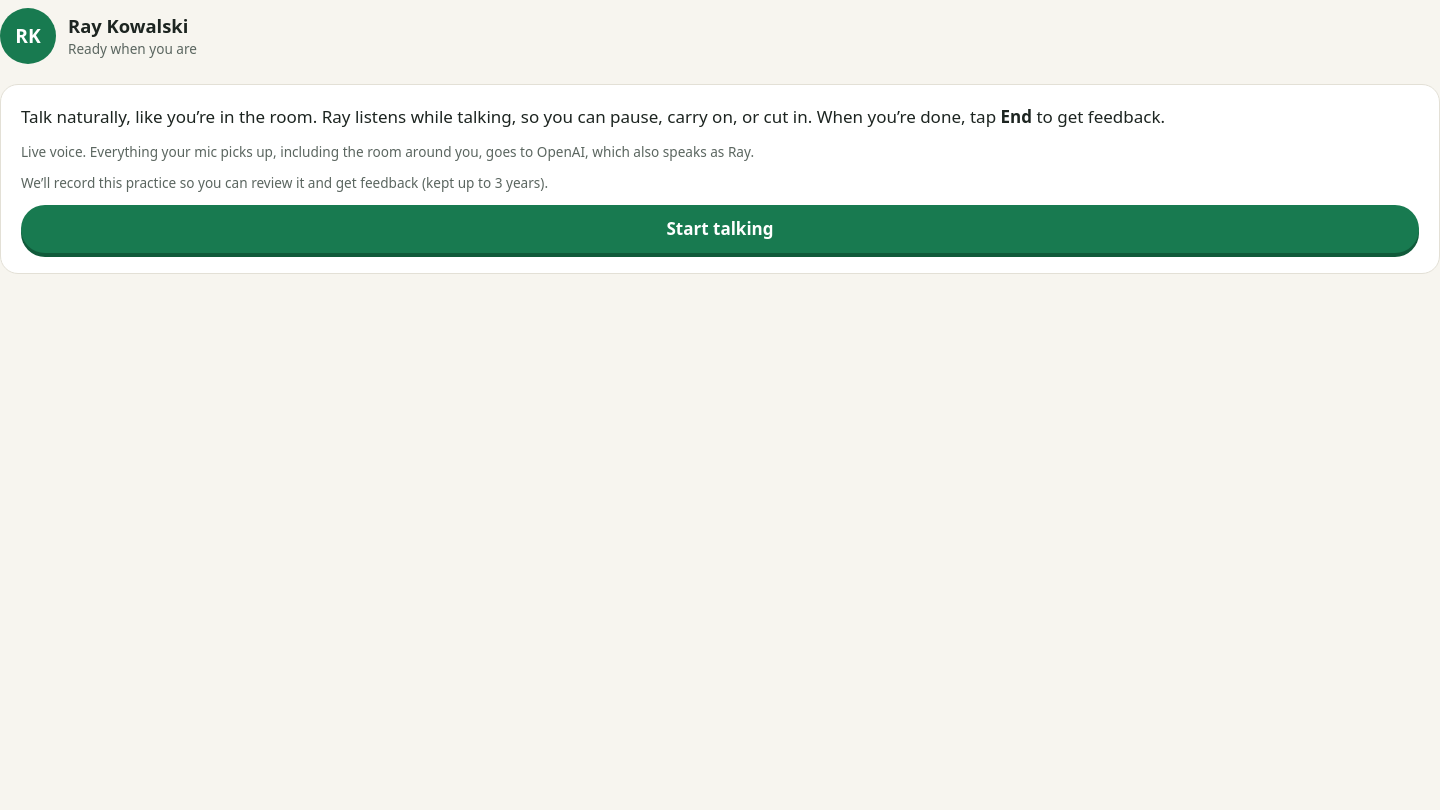
Test: GPT-Live conversation › on a cut-off, keeps only the words Ray got out and saves them at once
What coordinates should you click on to do the following:
click the button "Start talking"
I would click on:
 (720, 229)
Its box is [21,205,1419,253].
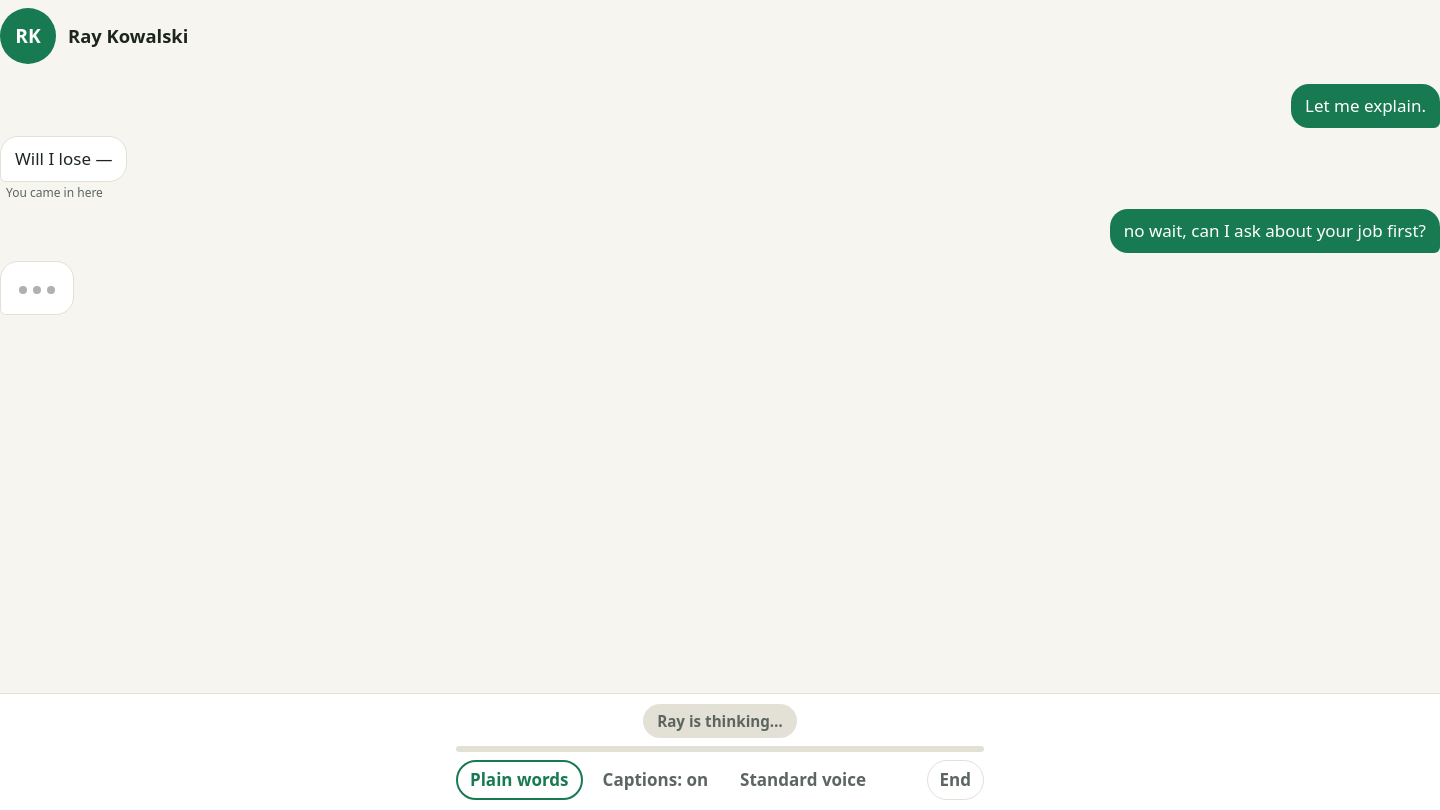
Expected: the text "Will I lose —" is shown, [0,136,127,182]
Expected: the text "no wait, can I ask about your job first?" is shown, [1110,209,1439,253]
